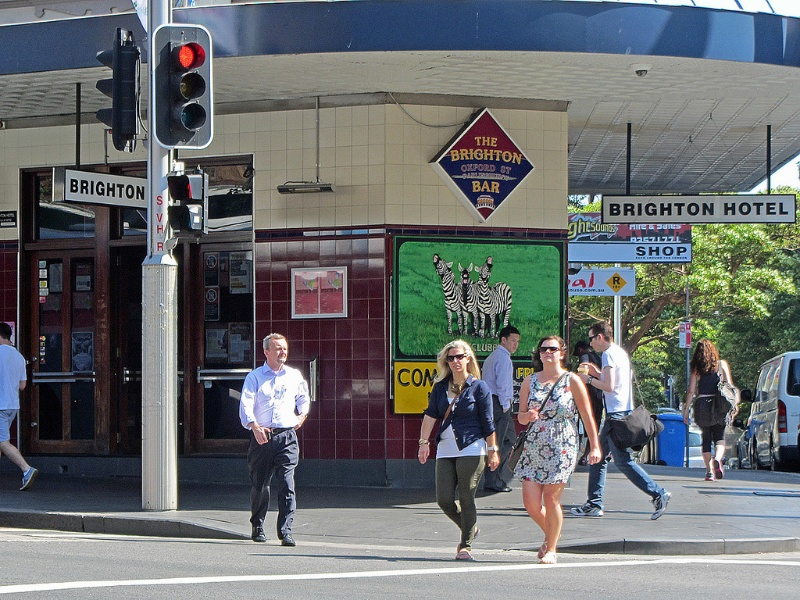red_light: (156, 18, 231, 148)
